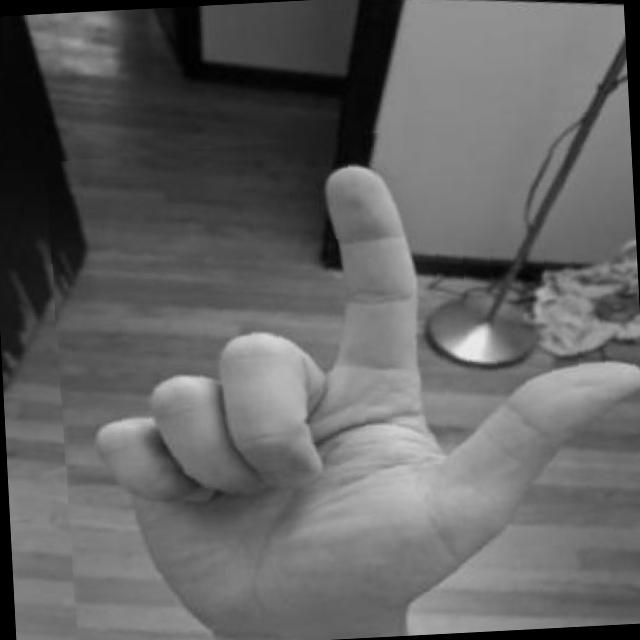L: (44, 110, 640, 640)
